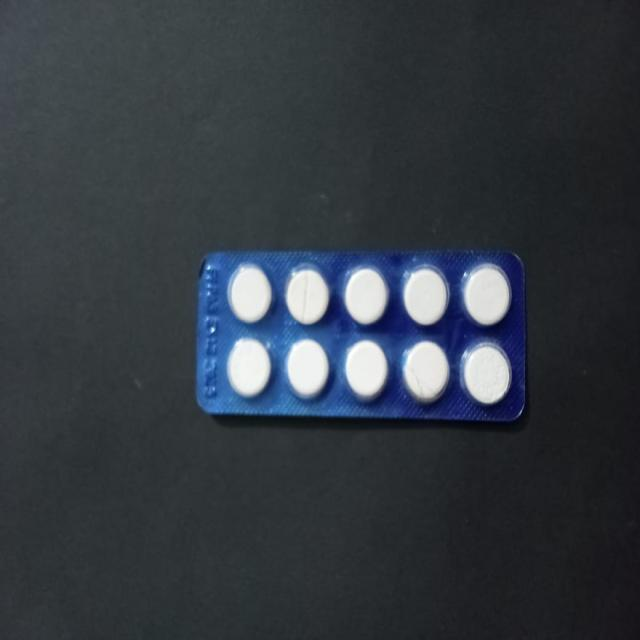defect: (399, 338, 453, 406), (283, 261, 333, 328)
